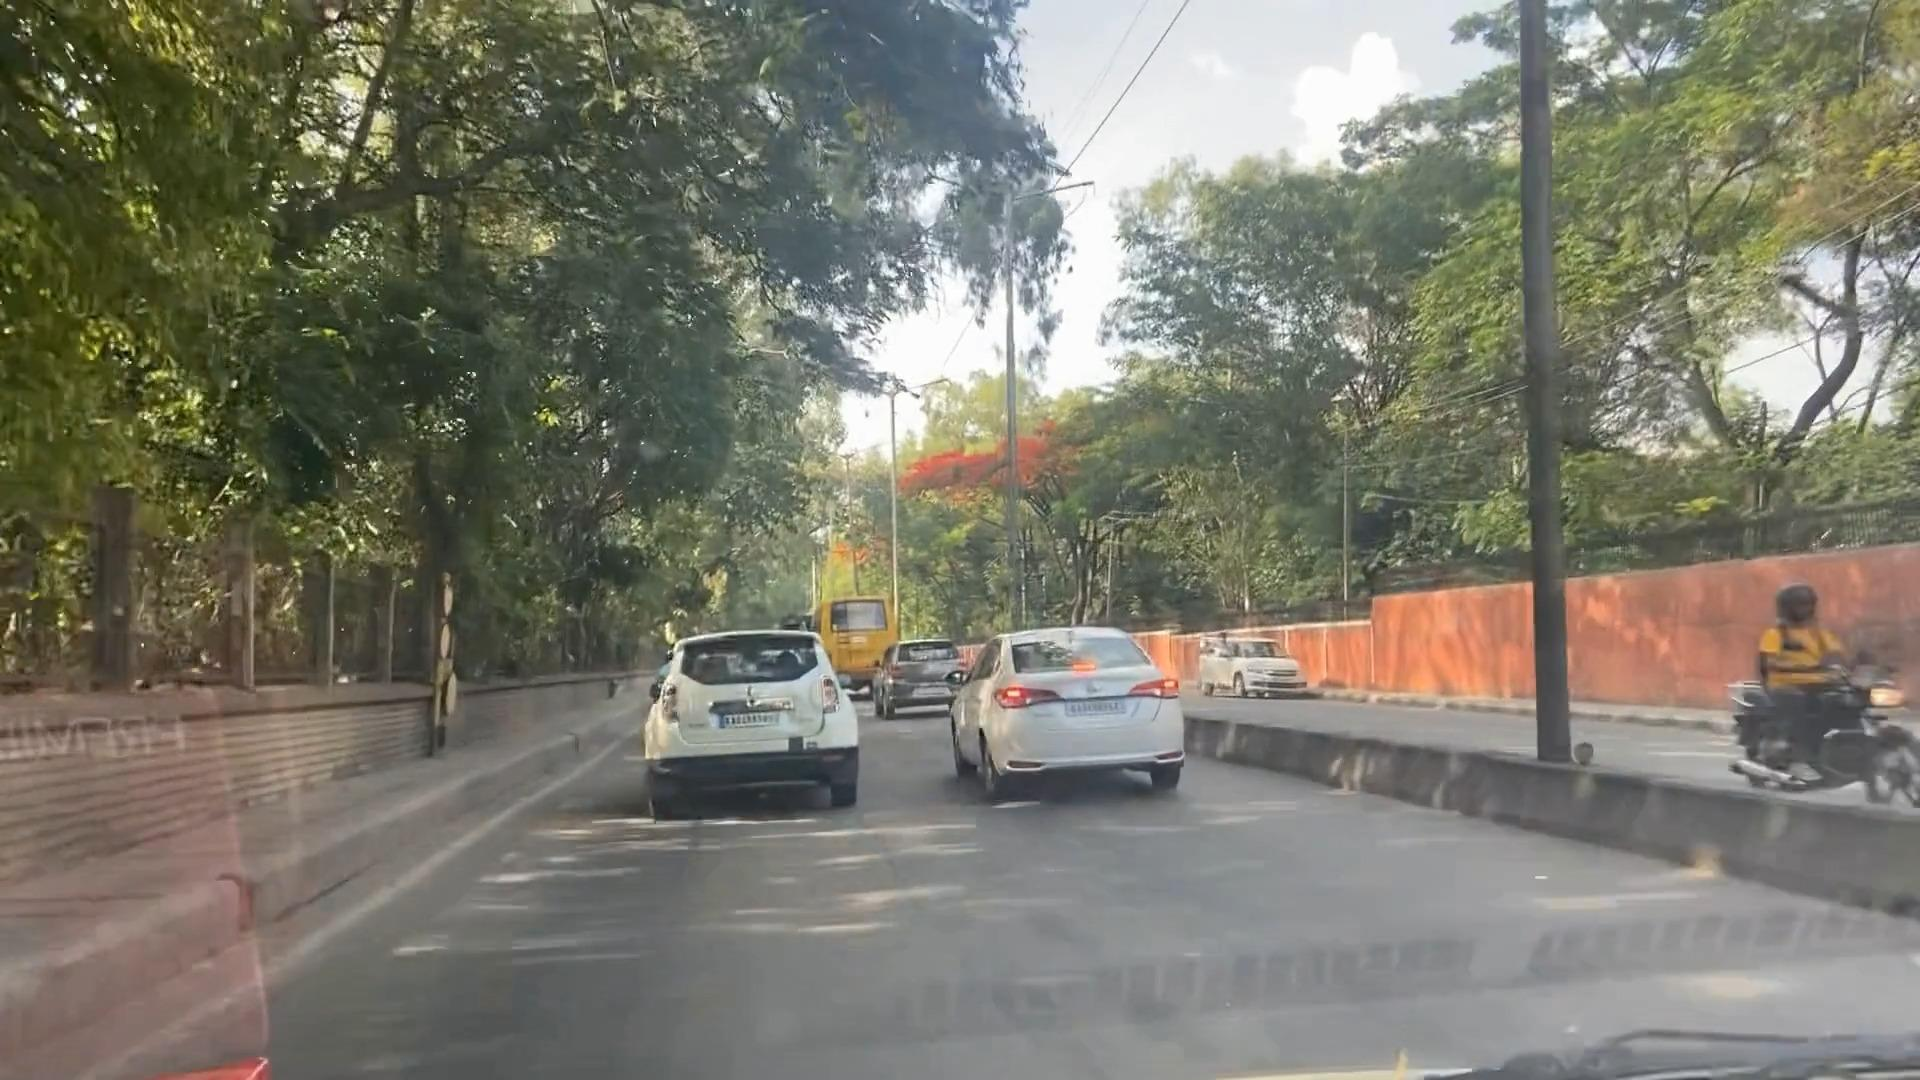LMV: (968, 636, 1187, 791), (654, 634, 858, 796), (876, 640, 960, 702)
